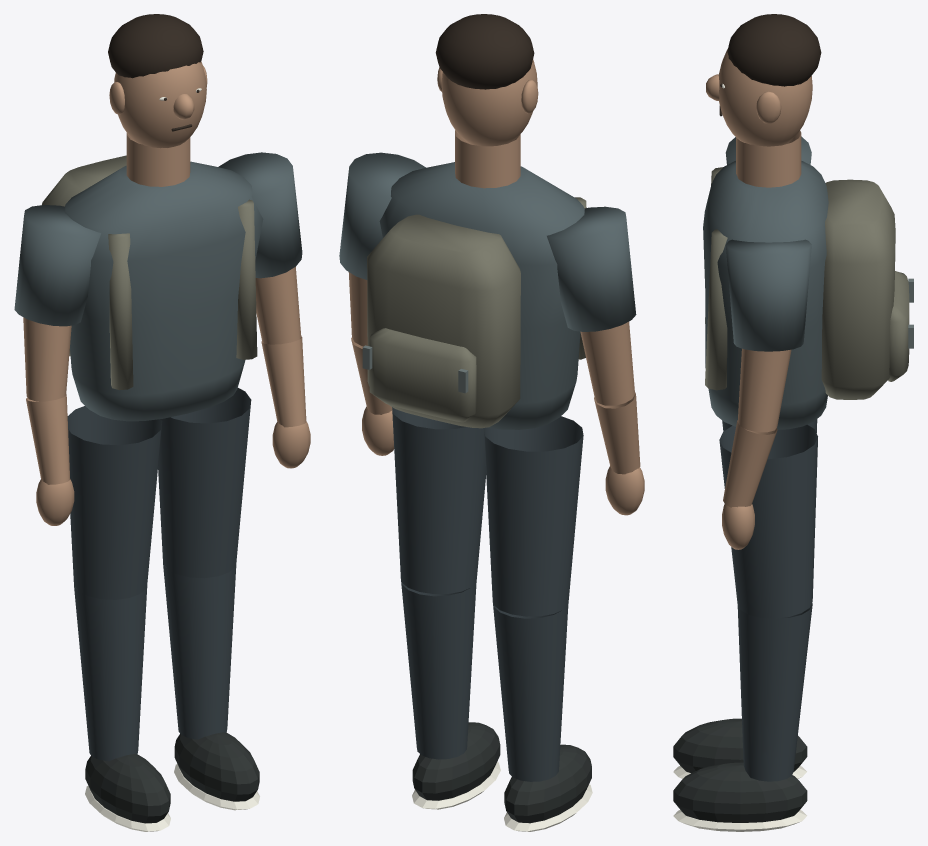
The model's file is chenye.glb.
The picture shows the model from 3 angles, left to right: view 1: azimuth 30°, elevation 25°; view 2: azimuth 150°, elevation 25°; view 3: azimuth 270°, elevation 25°; orthographic projection. The views are drawn at different scales.
Visible parts, largest first — view 1: body_shirt, legL_pants, legR_pants, body_skin, armL_shirt, armL_skin, body_bag, armR_skin, armR_shirt, body_hair, legL_rubber, legR_rubber (+2 smaller); view 2: body_bag, legL_pants, legR_pants, body_shirt, armL_shirt, body_skin, armL_skin, body_hair, armR_shirt, legR_rubber, legL_rubber, armR_skin (+2 smaller); view 3: legR_pants, body_bag, body_shirt, body_skin, armR_shirt, armR_skin, legR_rubber, body_hair, legL_rubber, legR_white.
Boxes of the visible parts, x1,y1,x2,y2 form: body_shirt: (64,161,263,421); legL_pants: (67,406,162,761); legR_pants: (158,388,251,739); body_skin: (109,61,207,186); armL_shirt: (14,205,101,326); armL_skin: (23,317,74,525); body_bag: (42,155,257,390); armR_skin: (255,266,310,468); armR_shirt: (218,152,302,278); body_hair: (108,14,203,131); legL_rubber: (85,754,170,823); legR_rubber: (174,732,259,801); body_bag: (367,197,586,428); legL_pants: (484,416,583,781); legR_pants: (392,407,486,759); body_shirt: (379,162,584,429); armL_shirt: (547,206,636,331); body_skin: (437,59,538,188); armL_skin: (580,321,644,515); body_hair: (435,14,534,89); armR_shirt: (339,152,425,279); legR_rubber: (412,722,500,800); legL_rubber: (504,744,591,823); armR_skin: (348,272,394,455); legR_pants: (719,424,817,781); body_bag: (705,167,909,399); body_shirt: (703,161,828,429); body_skin: (706,49,812,187); armR_shirt: (725,239,811,351); armR_skin: (722,348,791,549); legR_rubber: (673,762,807,822); body_hair: (719,14,821,116); legL_rubber: (673,718,807,773); legR_white: (673,810,806,831).
Size of the model in its own units: 0.7209 by 1.91 by 0.531.
